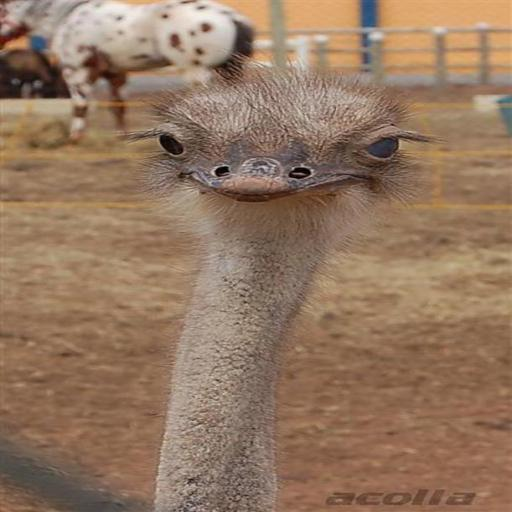horse: (0, 0, 252, 146)
